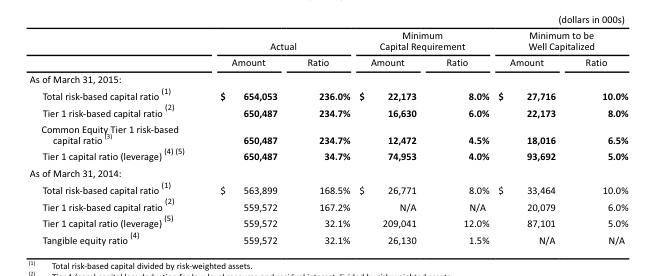table: (28, 28, 627, 245)
table column: (28, 28, 201, 245), (201, 28, 291, 245), (353, 28, 430, 245), (493, 28, 569, 245), (430, 28, 493, 245), (291, 28, 353, 245), (569, 28, 627, 245)
table column header: (28, 28, 627, 69)
table projected row header: (28, 69, 627, 84), (28, 163, 627, 178)
table row: (28, 28, 627, 53), (28, 120, 627, 144), (28, 101, 627, 120), (28, 144, 627, 163), (28, 84, 627, 101), (28, 178, 627, 195), (28, 211, 627, 228), (28, 228, 627, 245), (28, 53, 627, 69), (28, 195, 627, 211), (28, 69, 627, 84), (28, 163, 627, 178)
table spanning cell: (201, 28, 353, 53), (353, 28, 493, 53), (493, 28, 627, 53)
